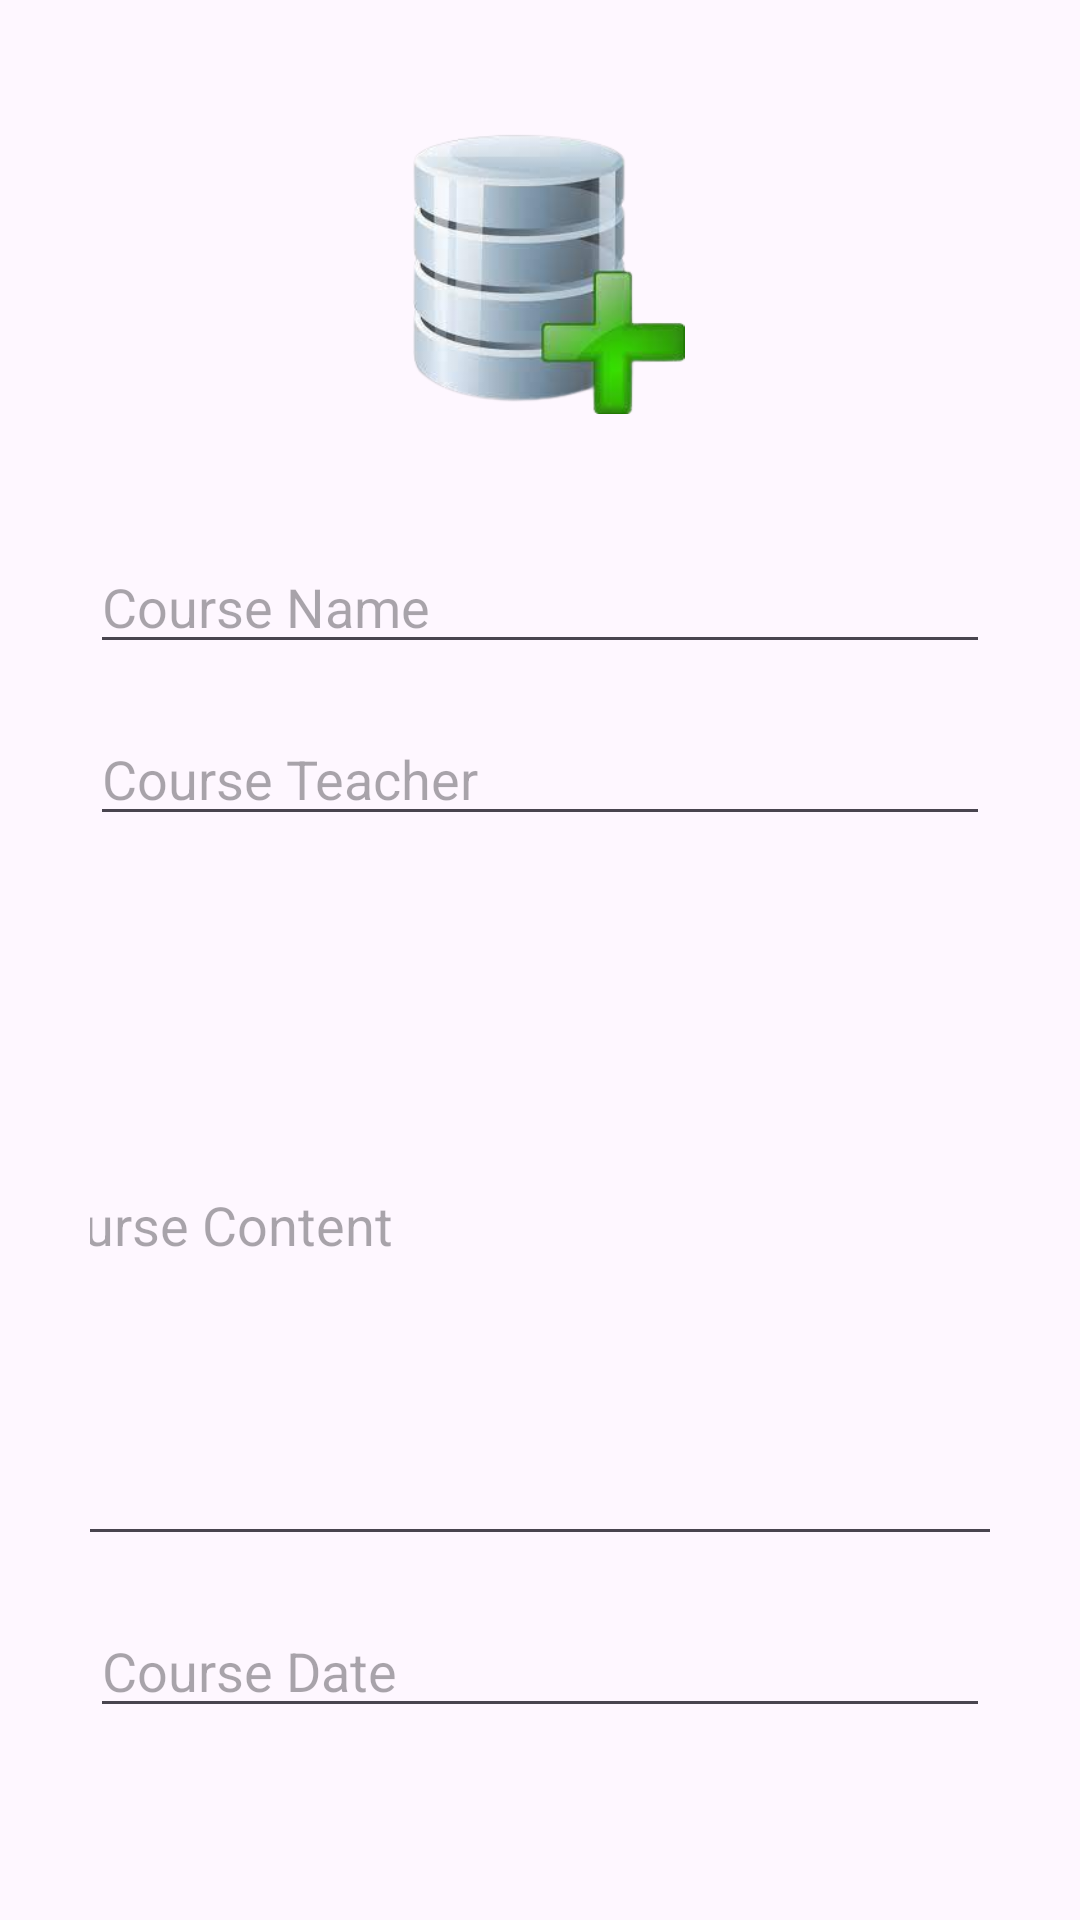

Point at icon controls on the screen. Image size 1080 × 1920, points as (x,y).
add: (549,274)
